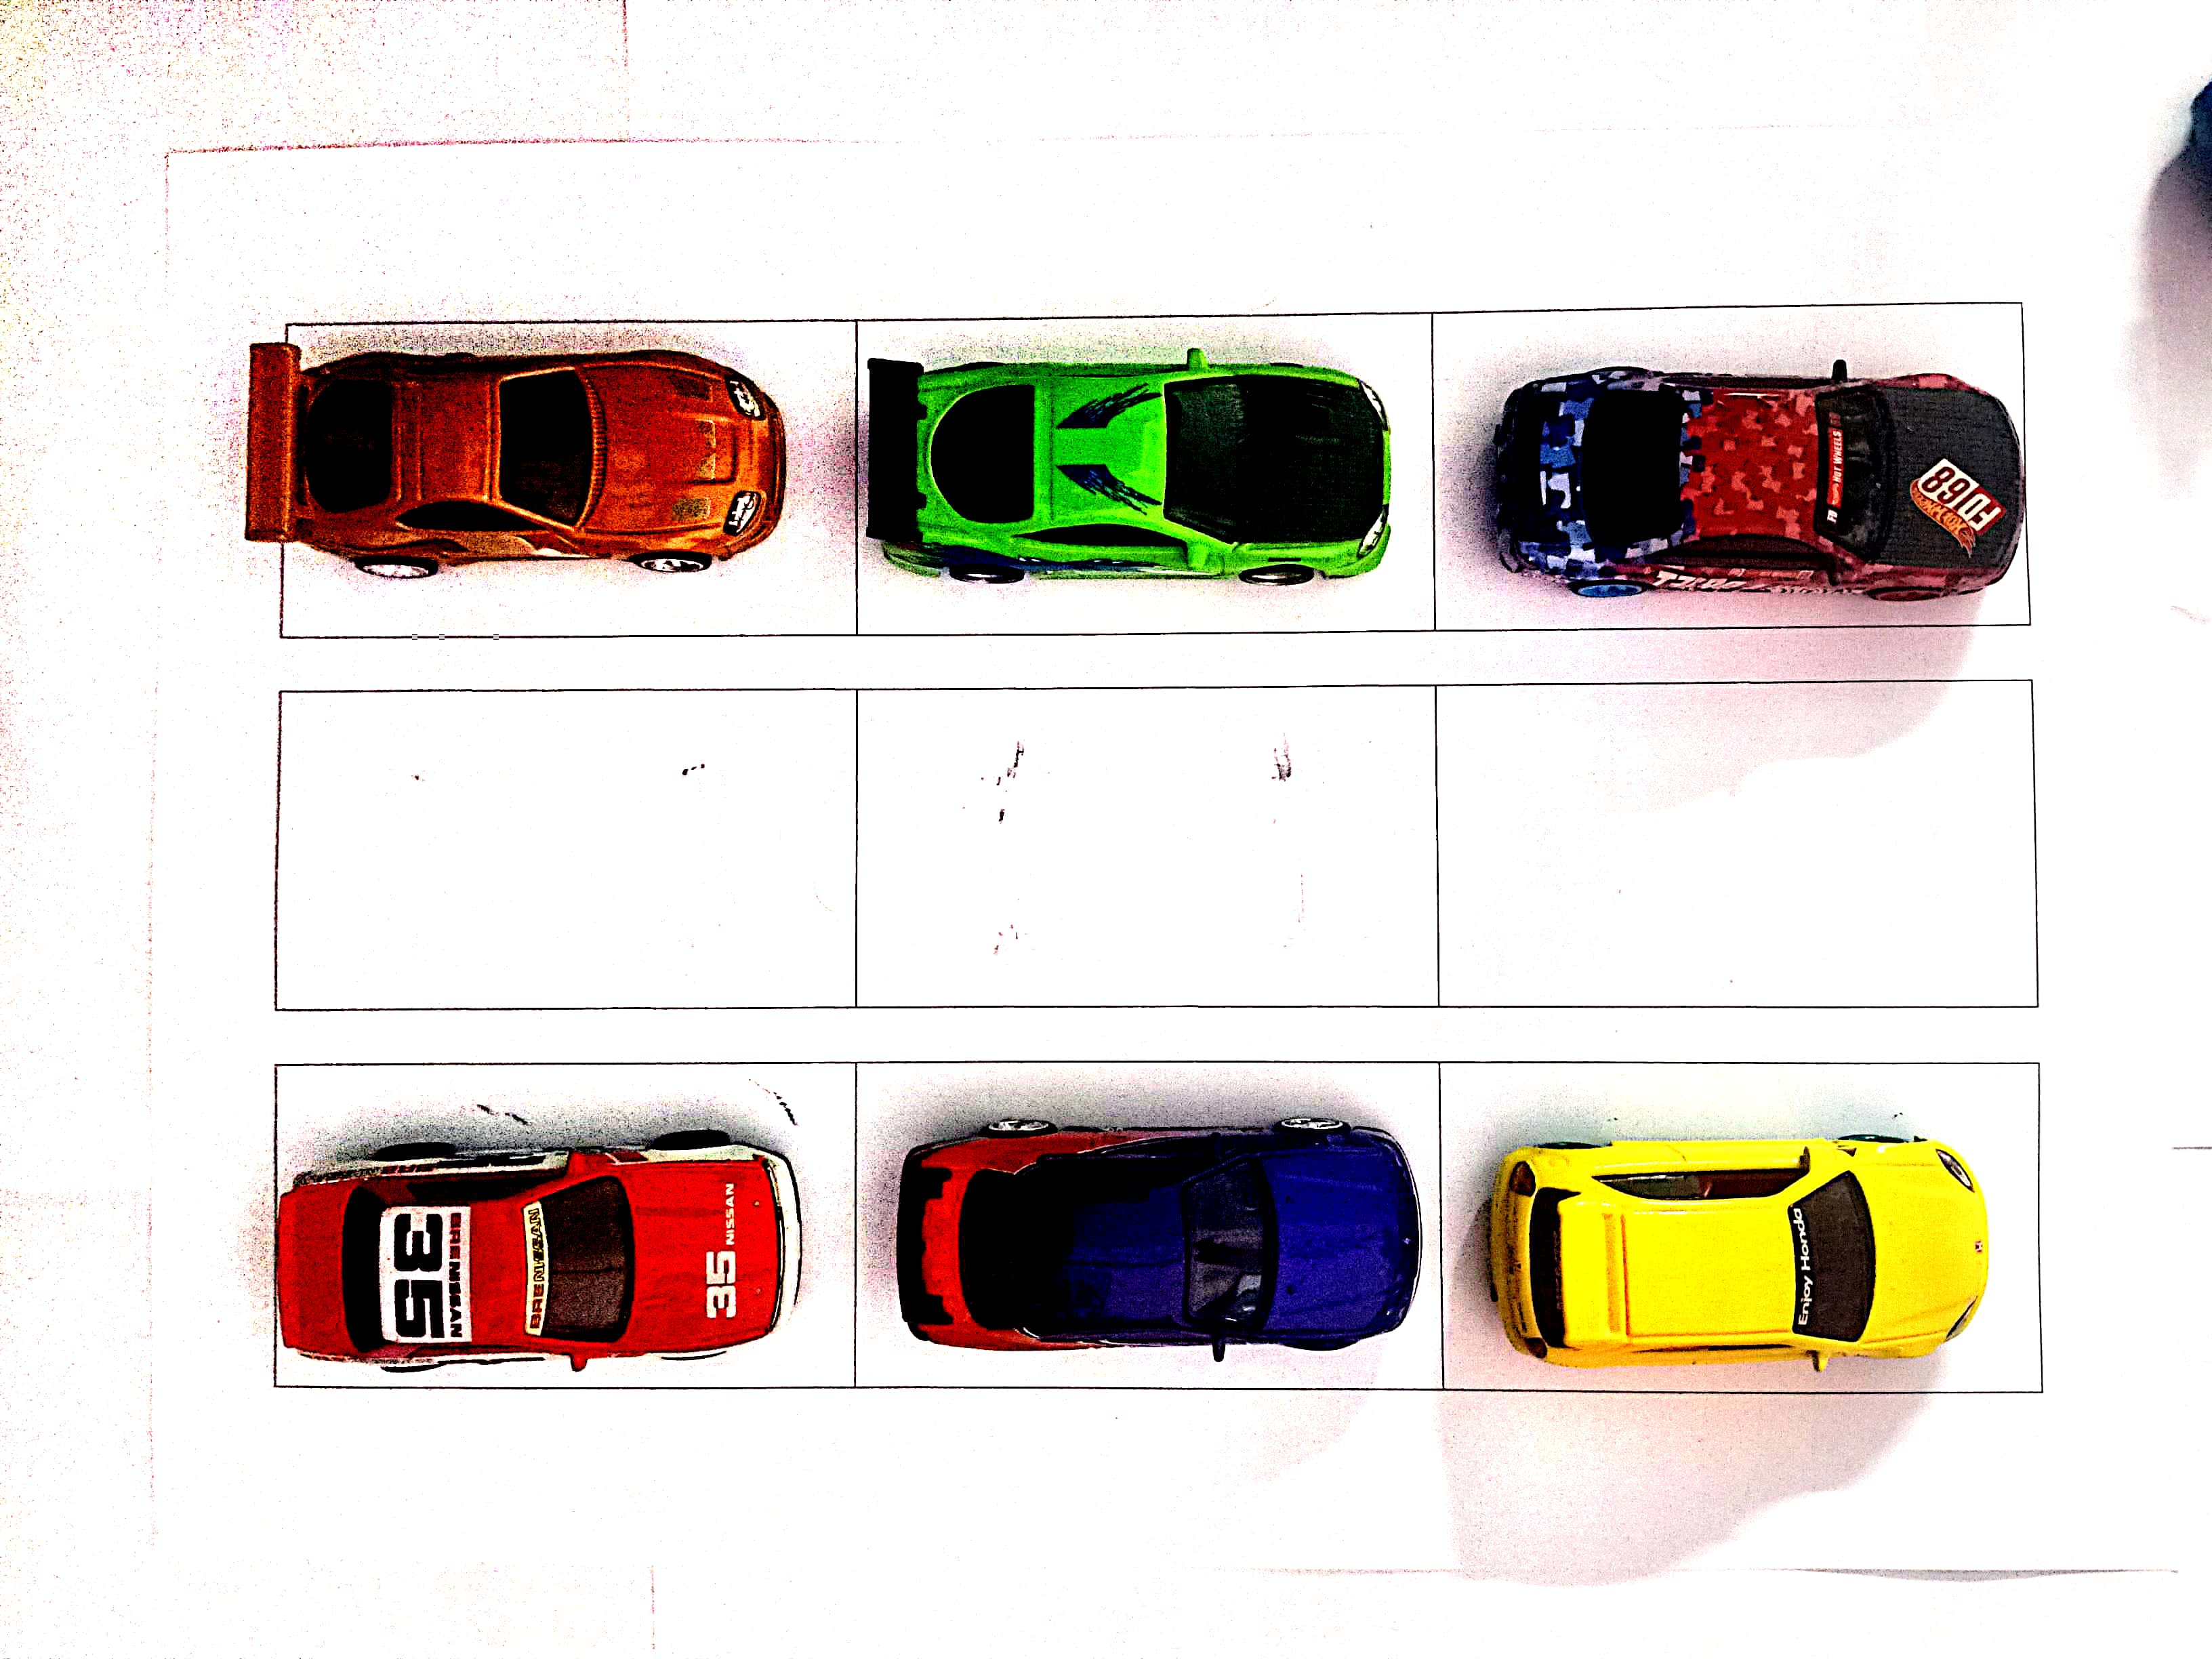Busy: (1446, 1058, 2033, 1396), (853, 1058, 1442, 1392), (1440, 305, 2017, 633), (279, 1066, 853, 1384), (860, 317, 1433, 624), (286, 328, 860, 627)
Free: (1433, 680, 2024, 1002), (848, 687, 1428, 1002), (277, 695, 848, 1009)
